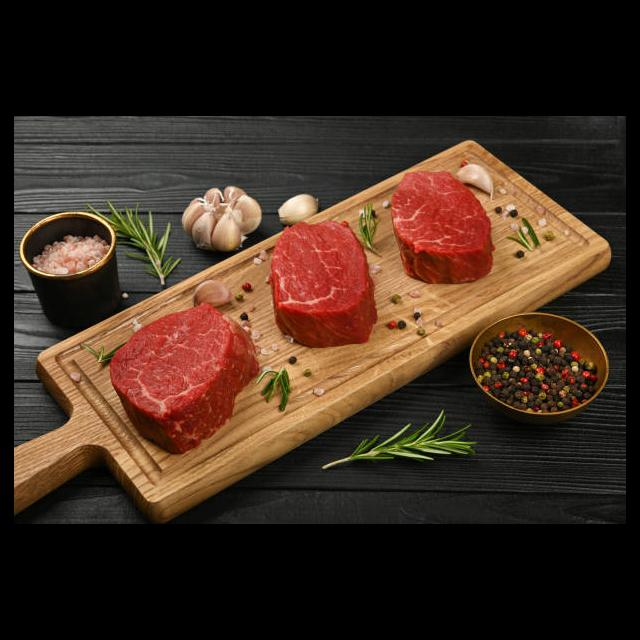beef: (108, 301, 258, 454), (270, 220, 378, 350), (389, 170, 495, 284)
